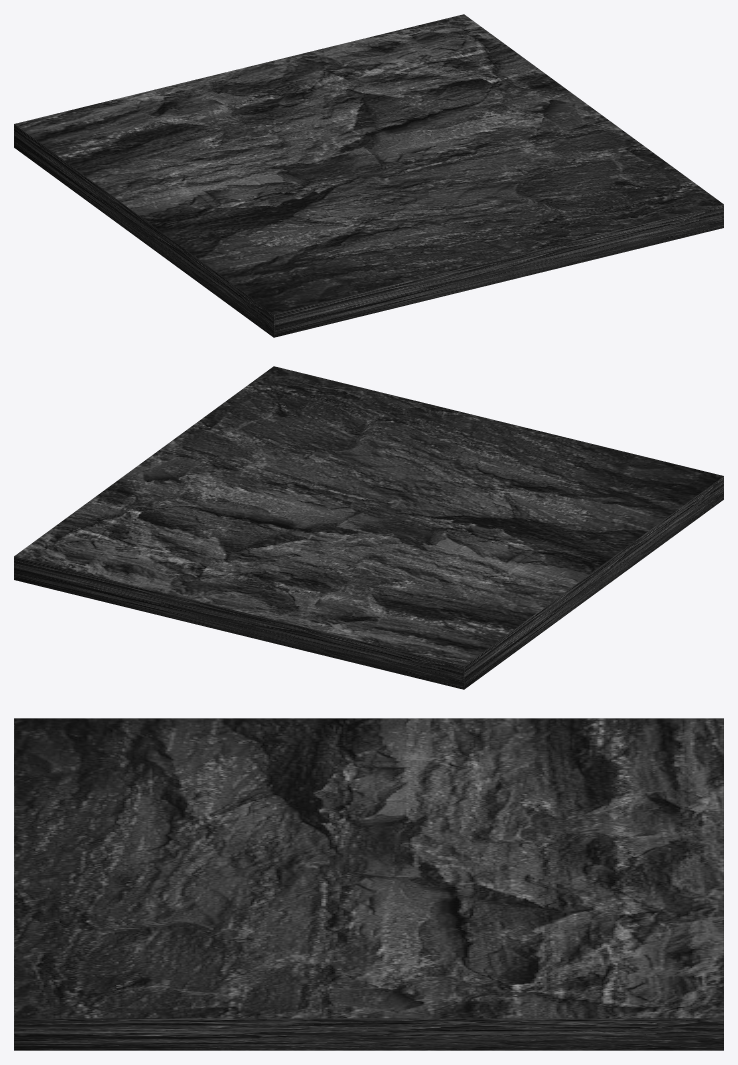
File: Wall_roof_middle_new.fbx
The picture shows the model from 3 angles, top to bottom: view 1: azimuth 30°, elevation 25°; view 2: azimuth 150°, elevation 25°; view 3: azimuth 270°, elevation 25°; orthographic projection. The views are drawn at different scales.
Parts seen in each view (by area): view 1: DachMitte; view 2: DachMitte; view 3: DachMitte.
Boxes of the visible parts, x1=… form: DachMitte: x1=14, y1=14, x2=723, y2=337; DachMitte: x1=14, y1=366, x2=723, y2=689; DachMitte: x1=14, y1=718, x2=723, y2=1050.
Size of the model in its own units: 10 by 0.5 by 10.
Materials: 1 (1 with a texture image).
